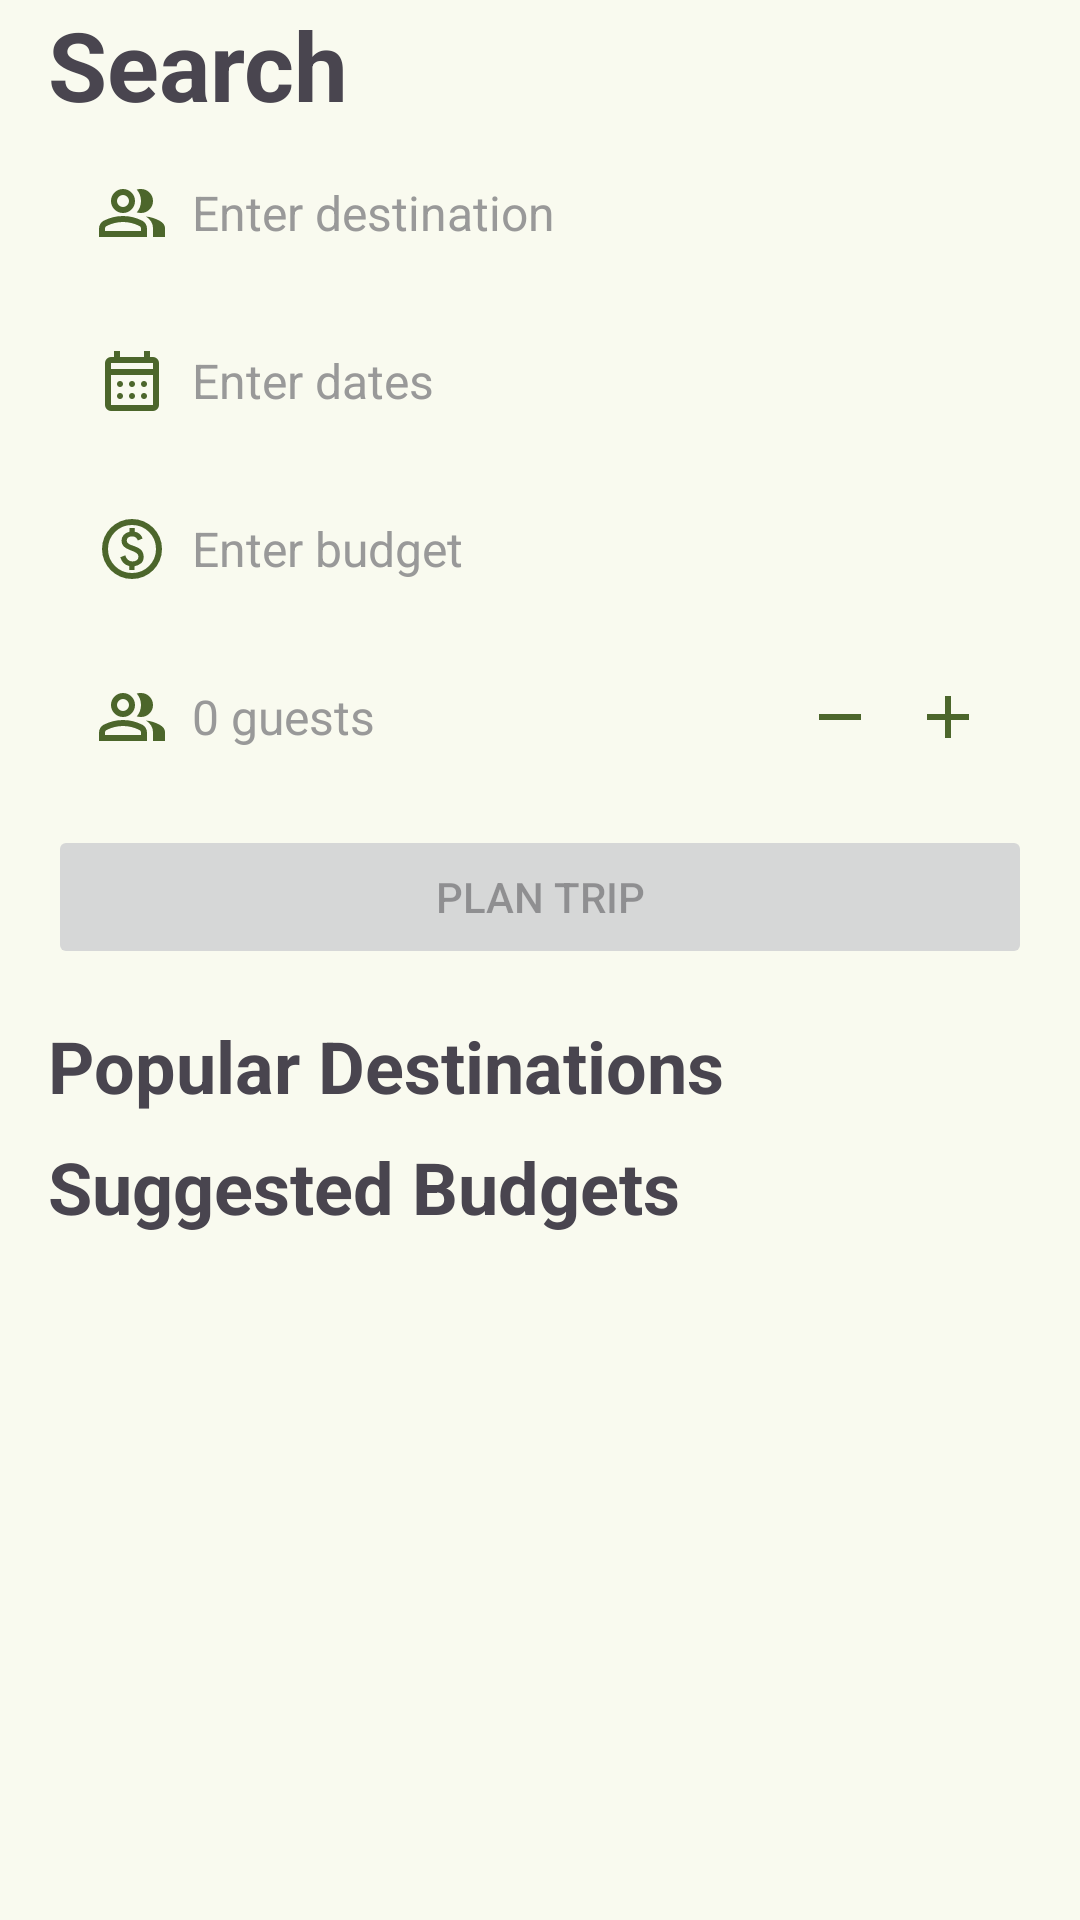

Named icons in this screenshot (1080x1920) and their centers, (x=x, y=y):
add: (x=948, y=717)
